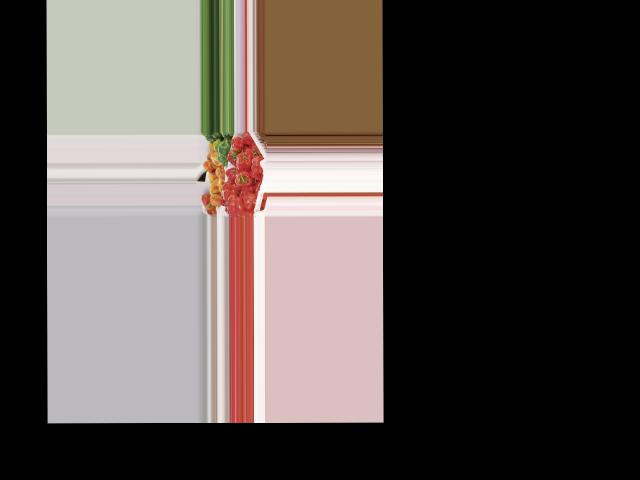bell_pepper: (250, 155, 265, 180)
